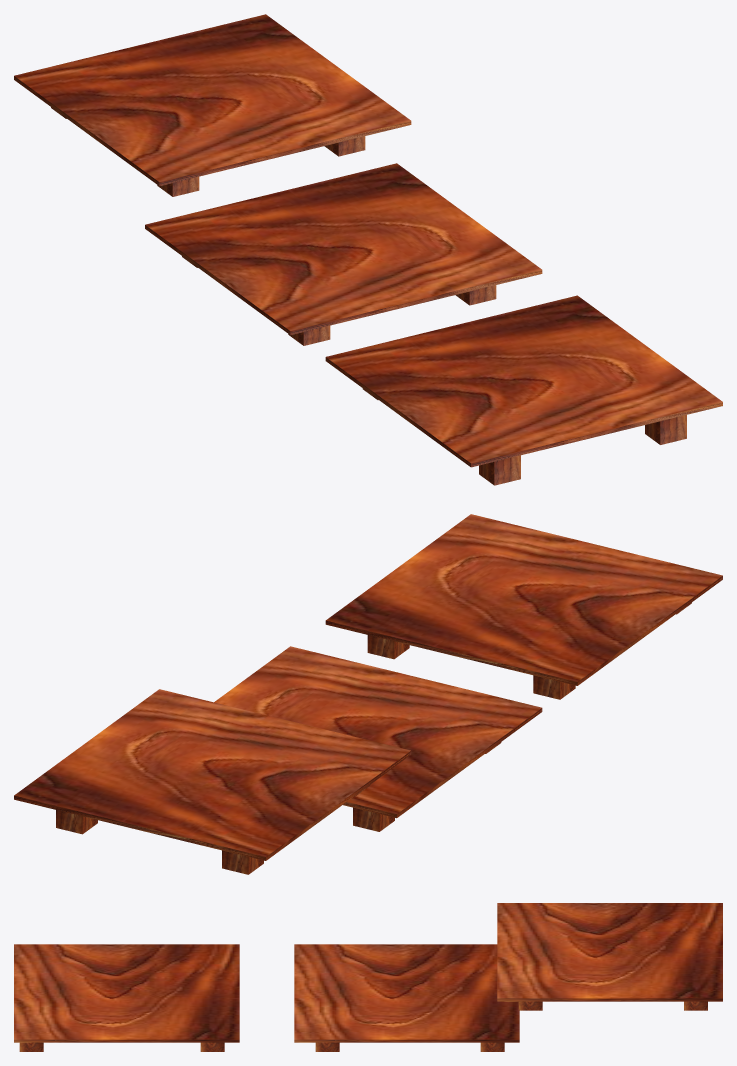
The model's file is test2tableplatform.glb.
3 views of the same model, one above another, from view 1: azimuth 30°, elevation 25°; view 2: azimuth 150°, elevation 25°; view 3: azimuth 270°, elevation 25° (orthographic). The views are drawn at different scales.
Visible parts, largest first — view 1: Cube, Cube.012, Cube.007, Cube.001, Cube.004; view 2: Cube, Cube.012, Cube.007, Cube.002, Cube.003, Cube.014, Cube.013, Cube.006; view 3: Cube, Cube.012, Cube.007.
Boxes of the visible parts, x1,y1,x2,y2 form: Cube: (325, 295, 722, 467); Cube.012: (14, 14, 411, 186); Cube.007: (145, 163, 542, 335); Cube.001: (479, 455, 520, 485); Cube.004: (645, 415, 686, 444); Cube: (325, 514, 722, 685); Cube.012: (14, 689, 411, 860); Cube.007: (214, 646, 542, 818); Cube.002: (533, 675, 575, 699); Cube.003: (367, 635, 409, 659); Cube.014: (56, 810, 97, 834); Cube.013: (222, 850, 263, 874); Cube.006: (353, 807, 394, 831); Cube: (14, 944, 239, 1042); Cube.012: (497, 903, 722, 1001); Cube.007: (294, 944, 519, 1042).
Size of the model in its own units: 18.9 by 6.07 by 59.38.
Materials: 5 (5 with a texture image).
